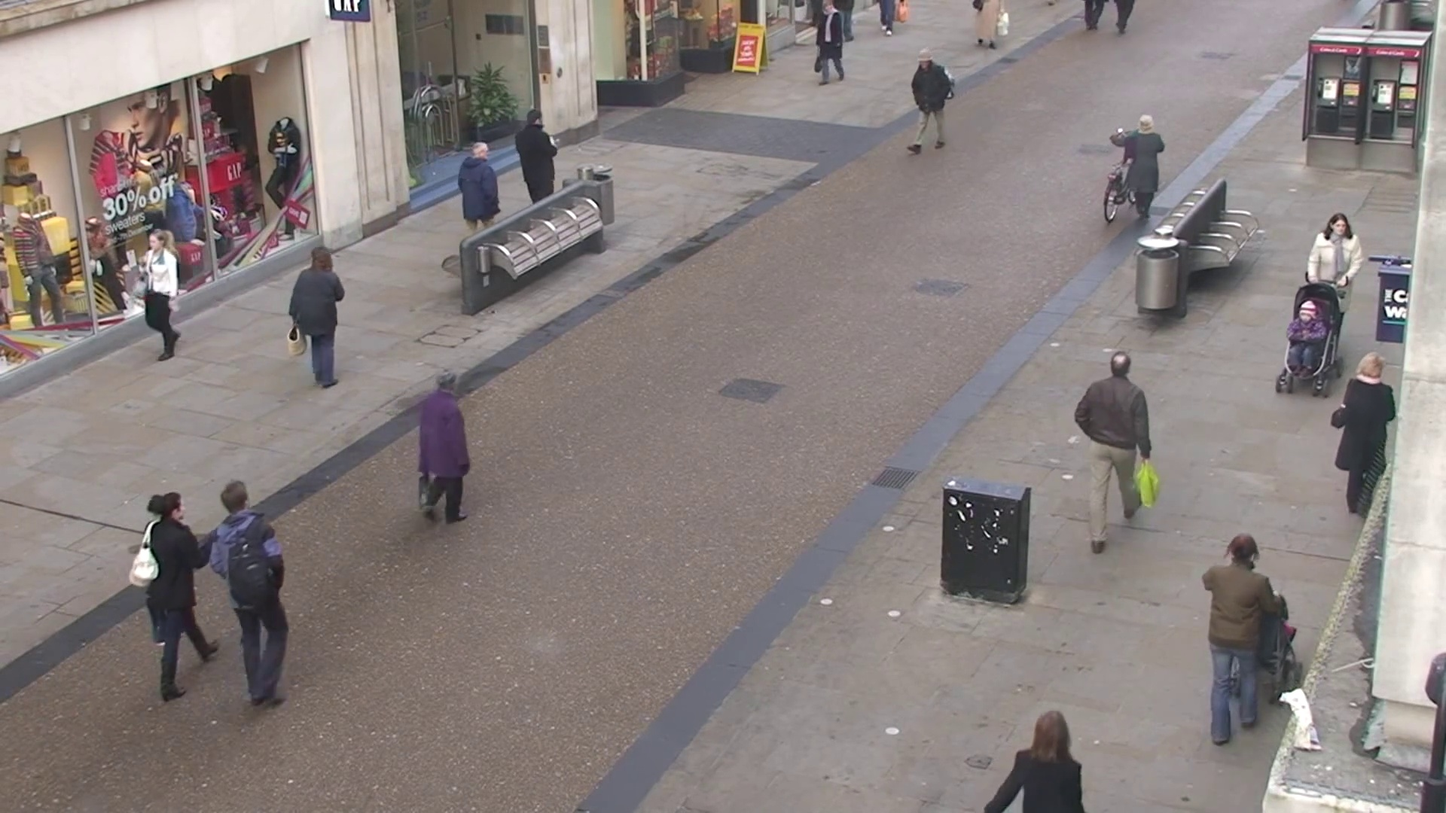person: (206, 483, 290, 707), (134, 489, 218, 703), (1203, 533, 1285, 748), (1075, 350, 1154, 550), (1331, 350, 1398, 519), (1300, 212, 1364, 380), (984, 710, 1086, 813), (286, 246, 346, 390), (416, 370, 471, 525), (139, 230, 182, 360), (1112, 112, 1166, 209), (908, 50, 955, 153), (1307, 213, 1364, 294), (457, 139, 502, 231), (516, 112, 557, 202), (813, 1, 850, 85)
